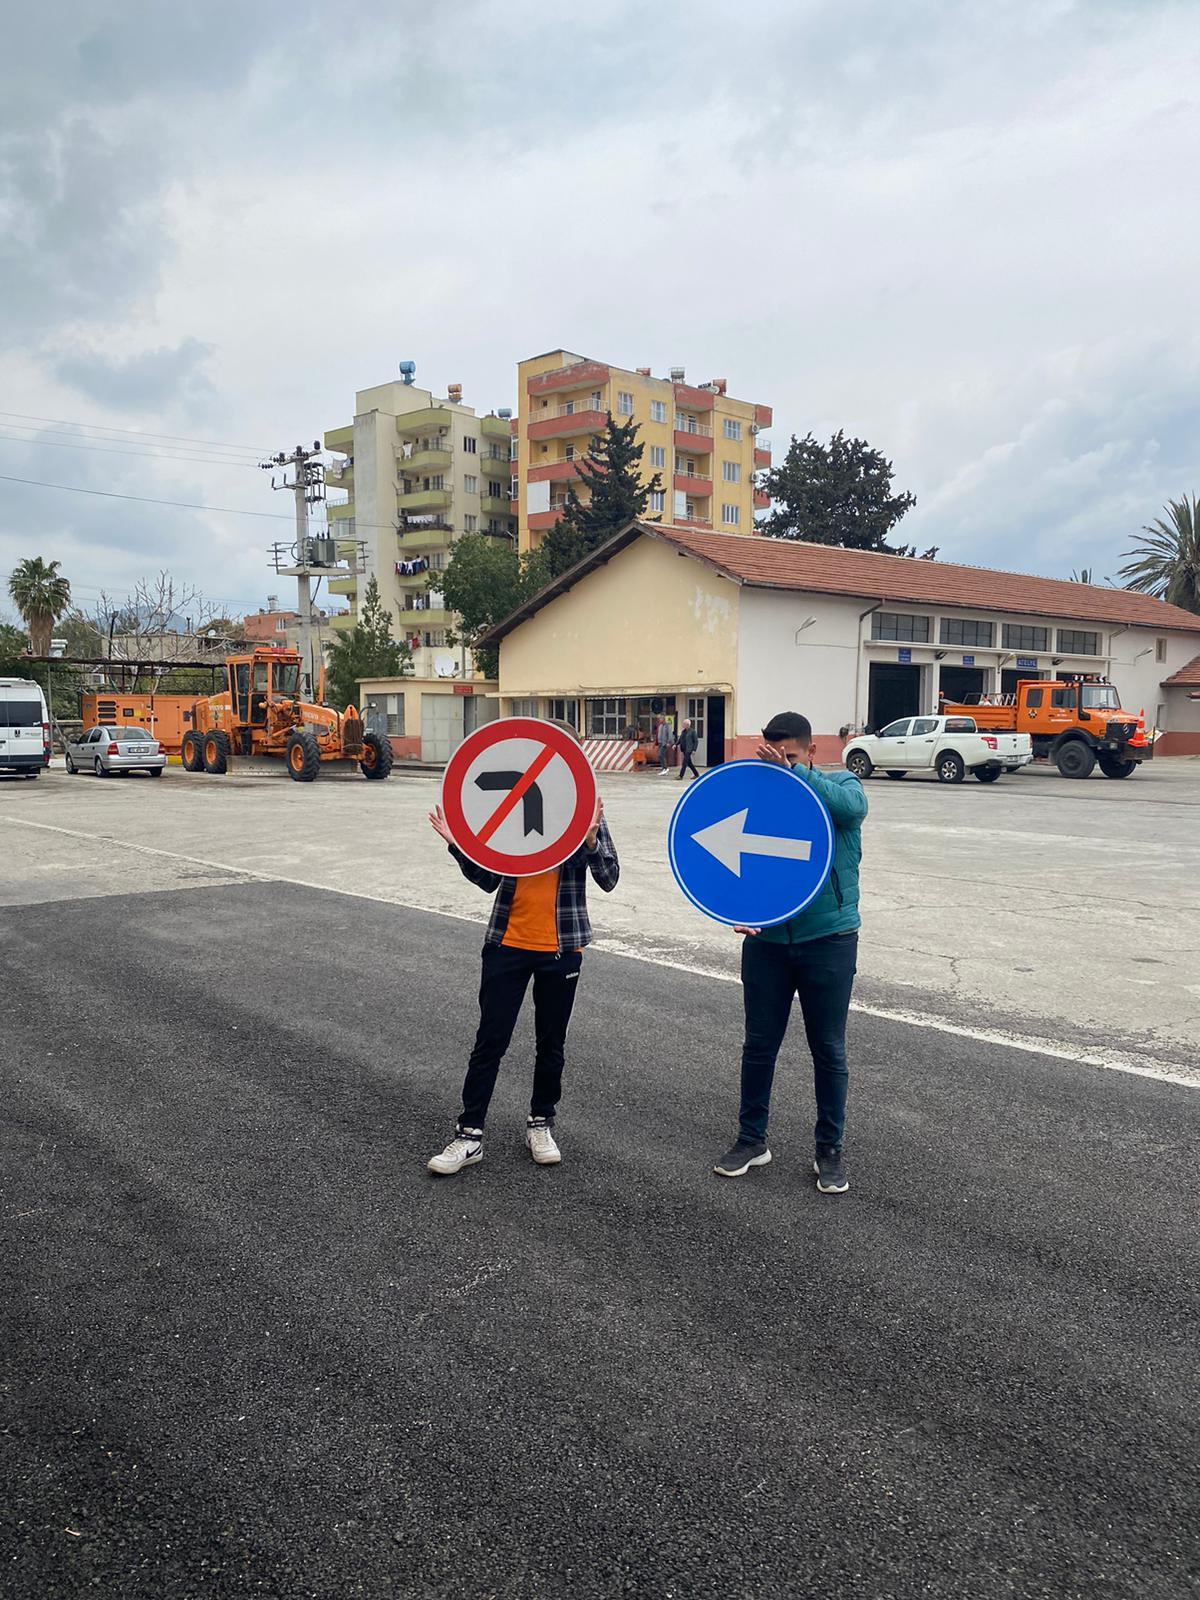leftturnsareforbidden: (442, 734, 587, 879)
turnleft: (671, 767, 832, 925)
